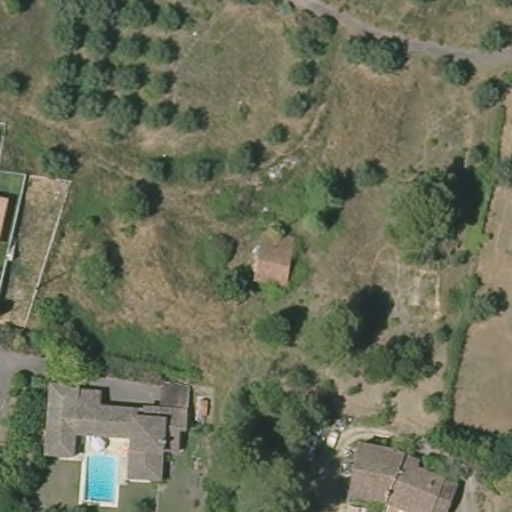pool: (79, 448, 125, 512)
